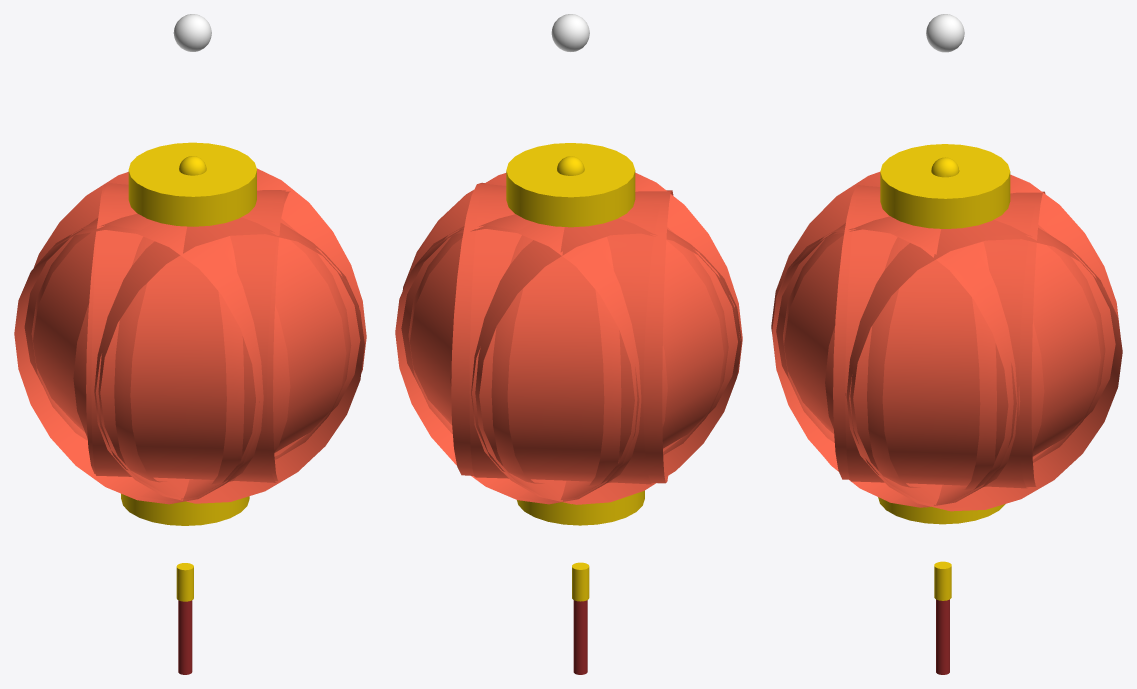
The picture shows the model from 3 angles, left to right: view 1: azimuth 30°, elevation 25°; view 2: azimuth 150°, elevation 25°; view 3: azimuth 270°, elevation 25°; orthographic projection.
Visible parts, largest first — view 1: Group_001; view 2: Group_001; view 3: Group_001.
Boxes of the visible parts, bbox=[...] form: Group_001: bbox=[14, 14, 366, 674]; Group_001: bbox=[395, 14, 742, 674]; Group_001: bbox=[771, 14, 1122, 674].
Size of the model in its own units: 46.29 by 104 by 50.04.
